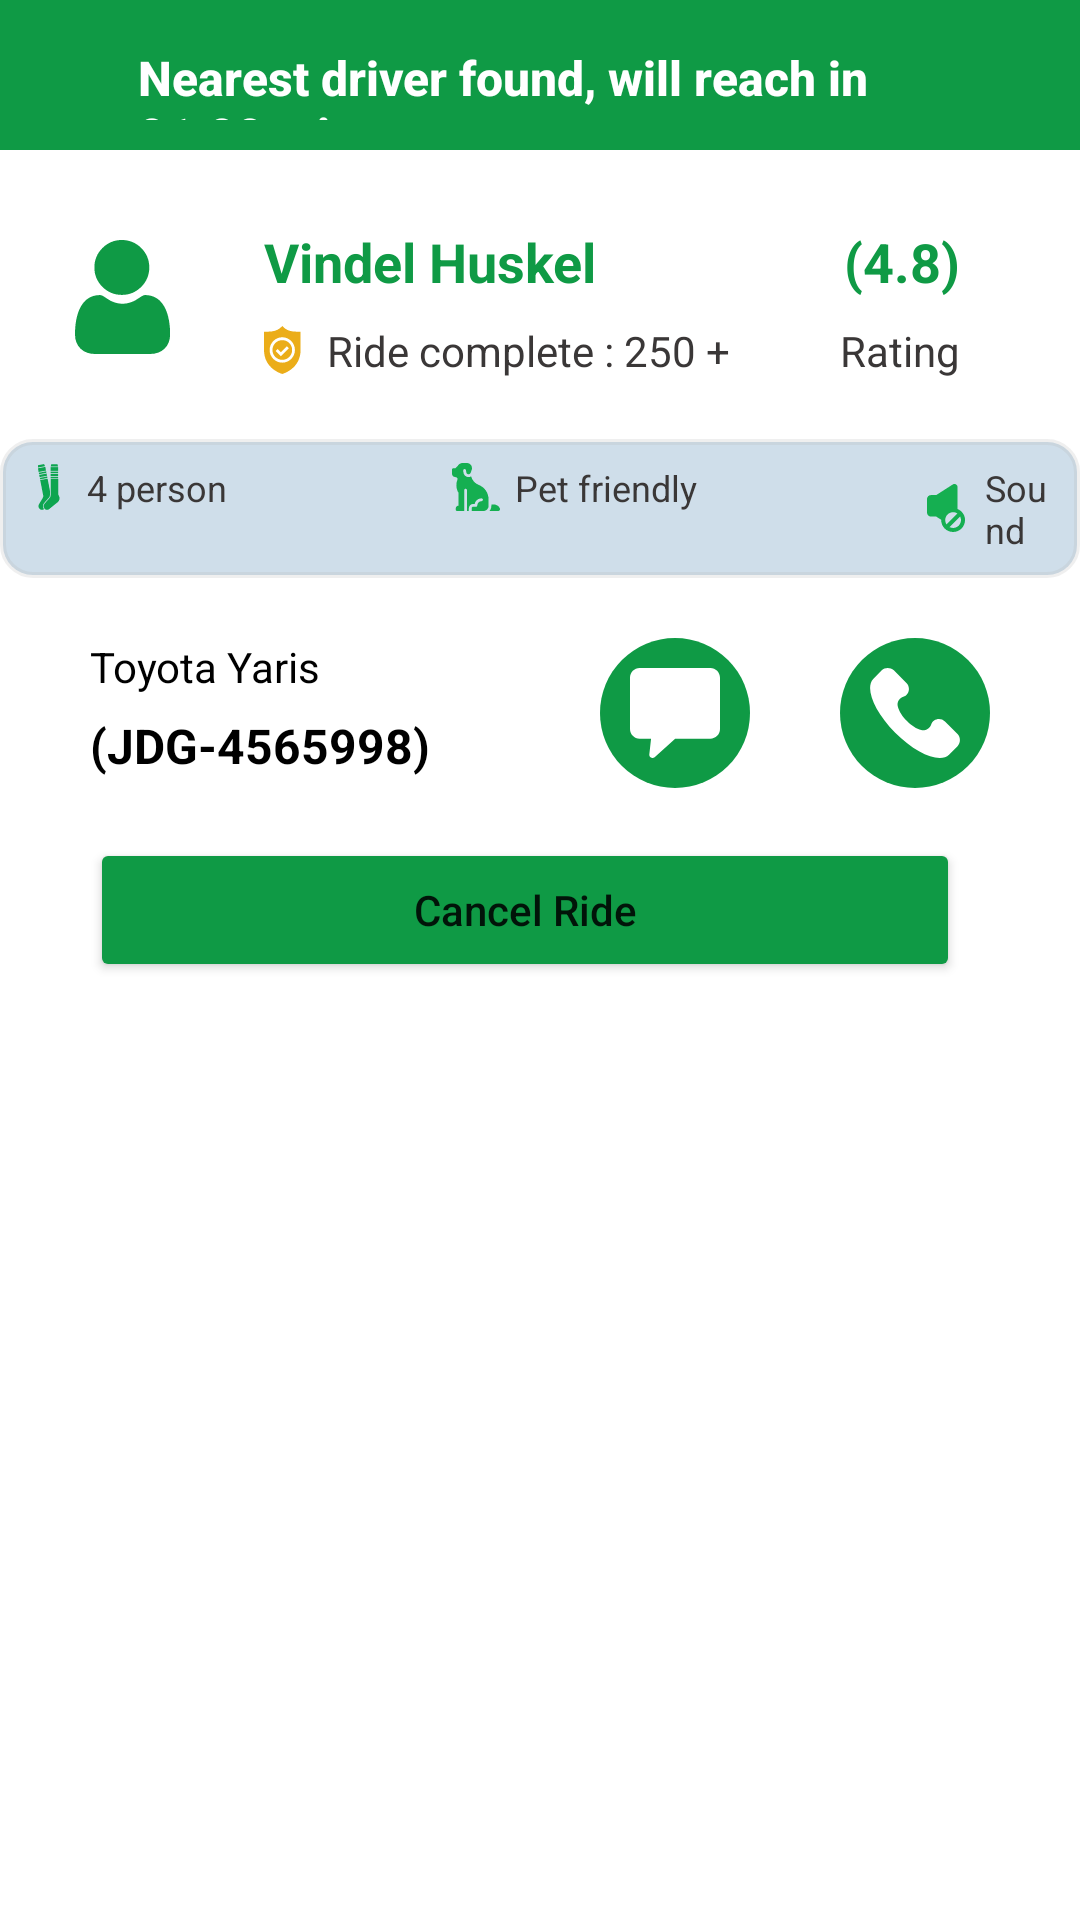

Where to tap for icons on this 1080×1920 app screen, as point (x, y):
chat: point (675, 713)
phone call: point (915, 713)
user: point (122, 297)
